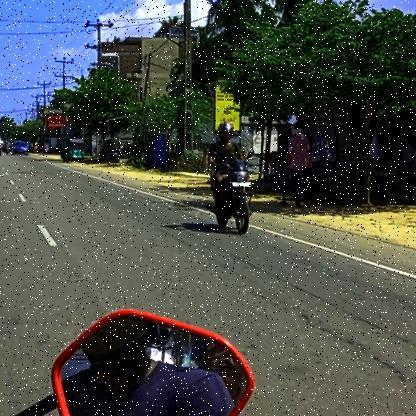motorcycle: (204, 157, 257, 238)
